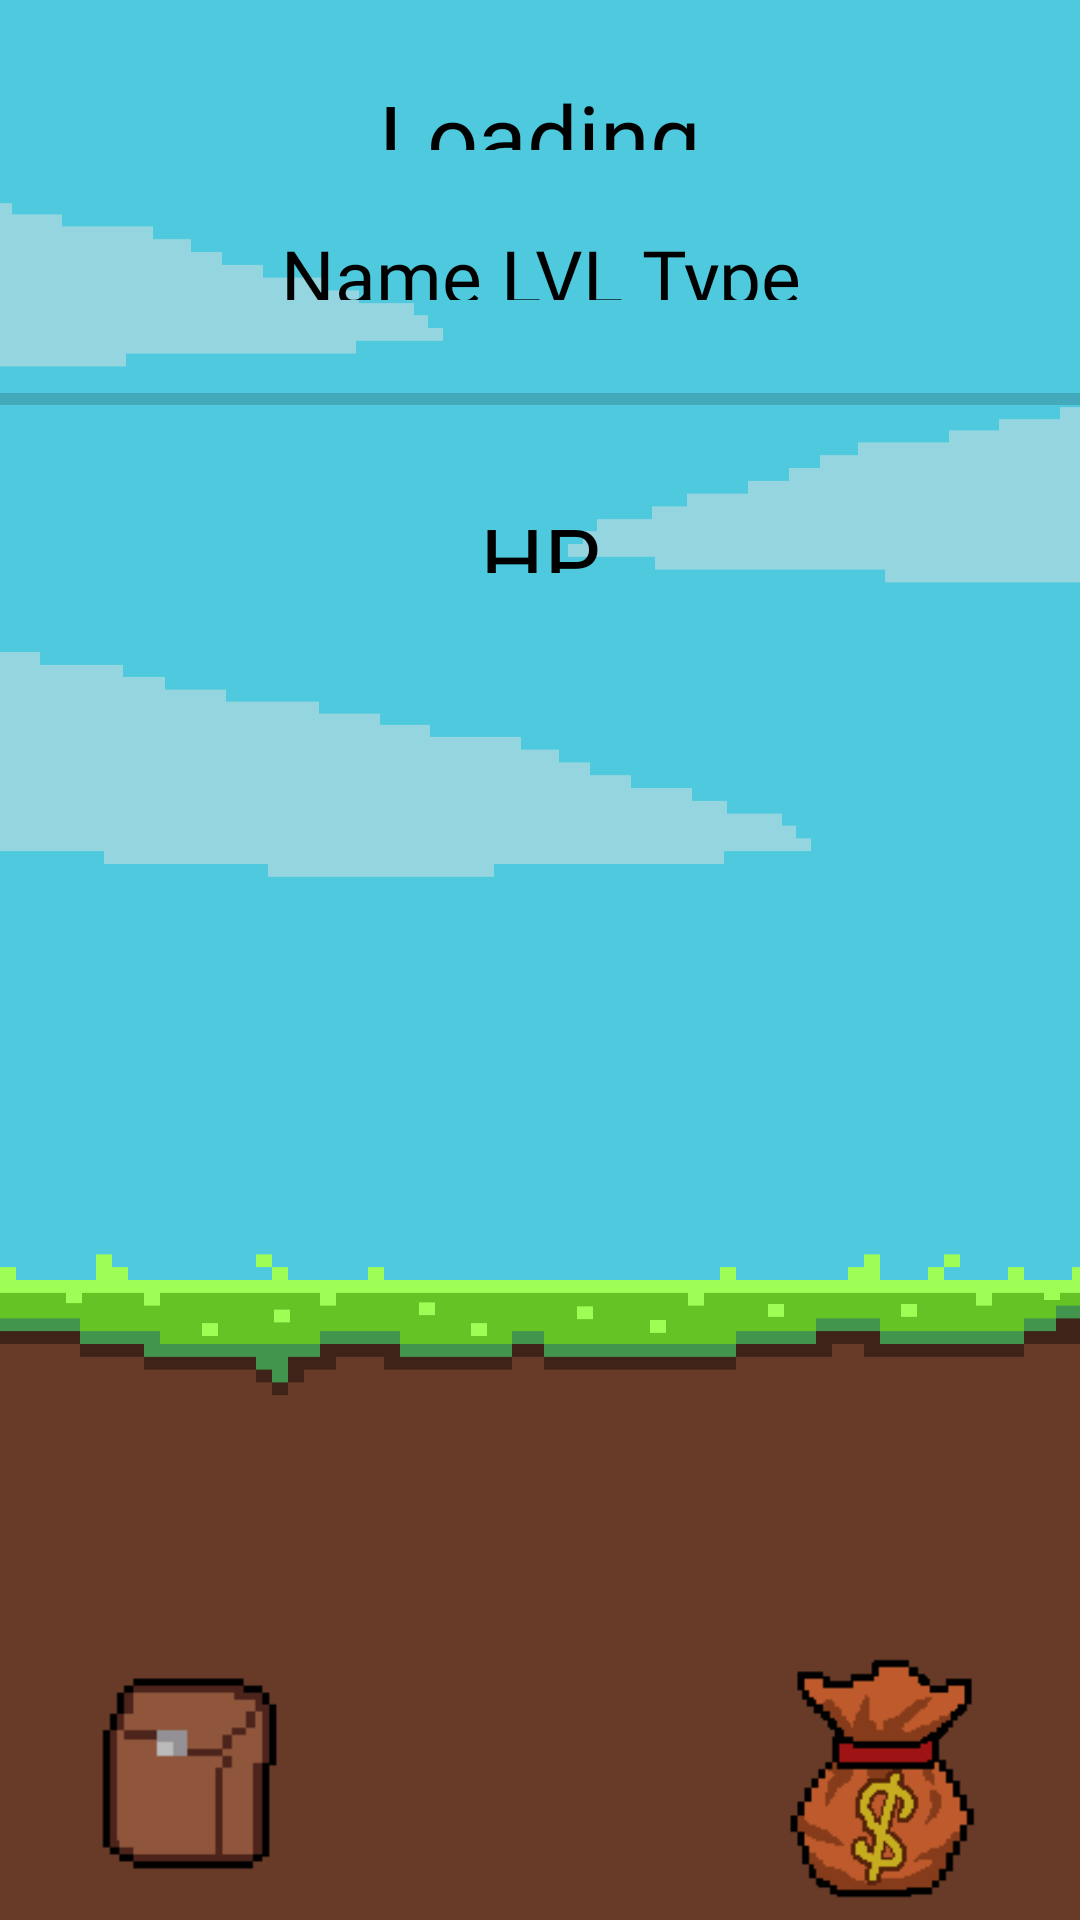

Where to tap for icons on this 1080 x 1920 app screen, as point (x, y):
bagpackkush: point (189, 1773)
shopkush: point (882, 1778)
